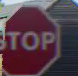Stop: (1, 4, 62, 75)
